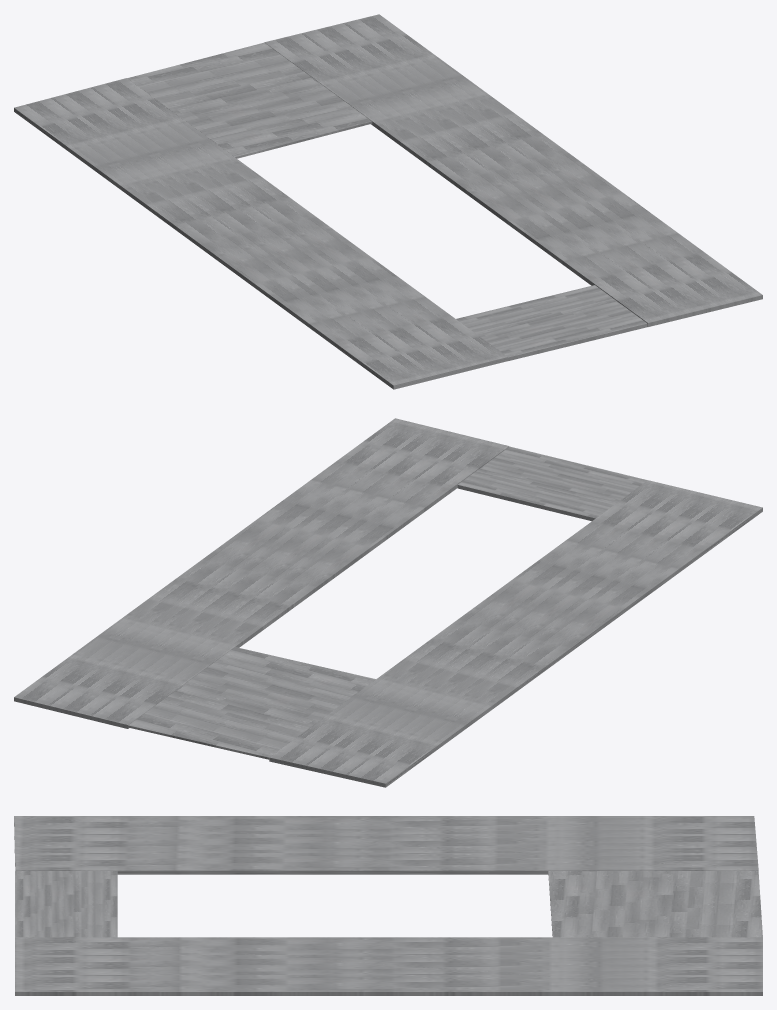
The model's file is segundopiso1.obj.
3 views of the same model, one above another, from view 1: azimuth 30°, elevation 25°; view 2: azimuth 150°, elevation 25°; view 3: azimuth 270°, elevation 25° (orthographic). The views are drawn at different scales.
Parts seen in each view (by area): view 1: polySurface321; view 2: polySurface321; view 3: polySurface321.
Boxes of the visible parts, box(x1,y1,x2,y2) form: polySurface321: box(14, 14, 762, 389); polySurface321: box(14, 418, 762, 787); polySurface321: box(14, 816, 762, 995).
Size of the model in its own units: 7.72 by 0.0811 by 13.9.
Materials: 1 (1 with a texture image).
